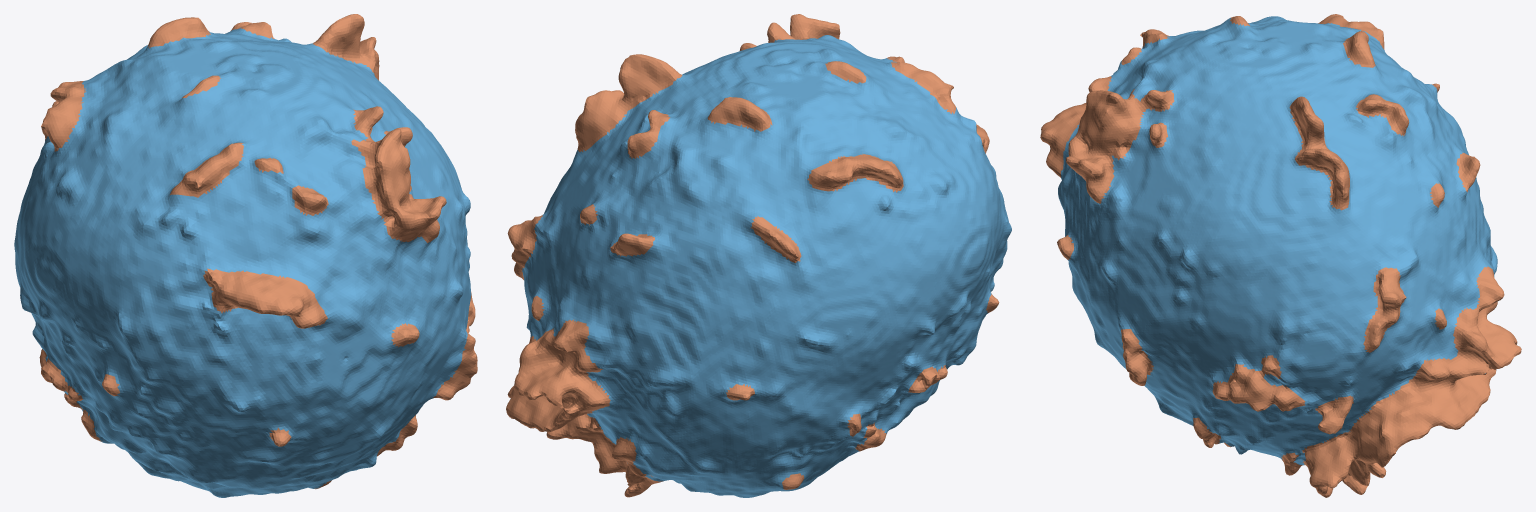
The picture shows the model from 3 angles, left to right: view 1: azimuth 30°, elevation 25°; view 2: azimuth 150°, elevation 25°; view 3: azimuth 270°, elevation 25°; orthographic projection. The views are drawn at different scales.
Size of the model in its own units: 125 by 127 by 136.
